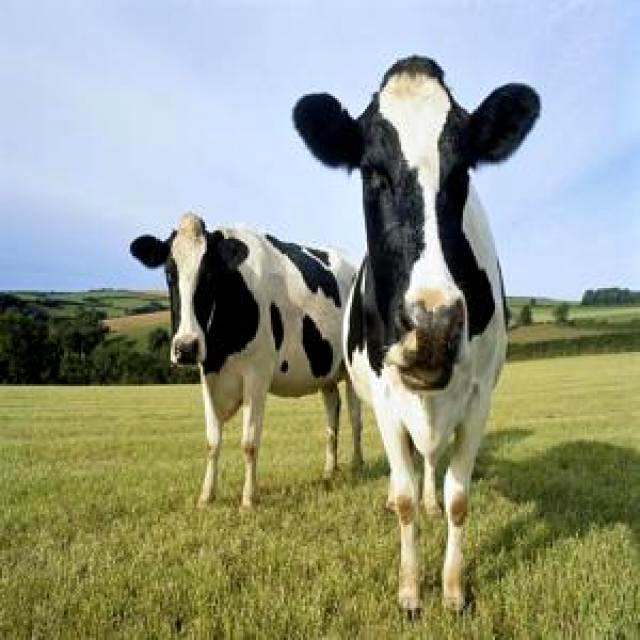COW: (294, 56, 540, 612), (130, 214, 354, 508)
